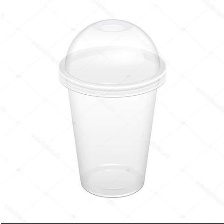glass: (52, 15, 173, 203)
